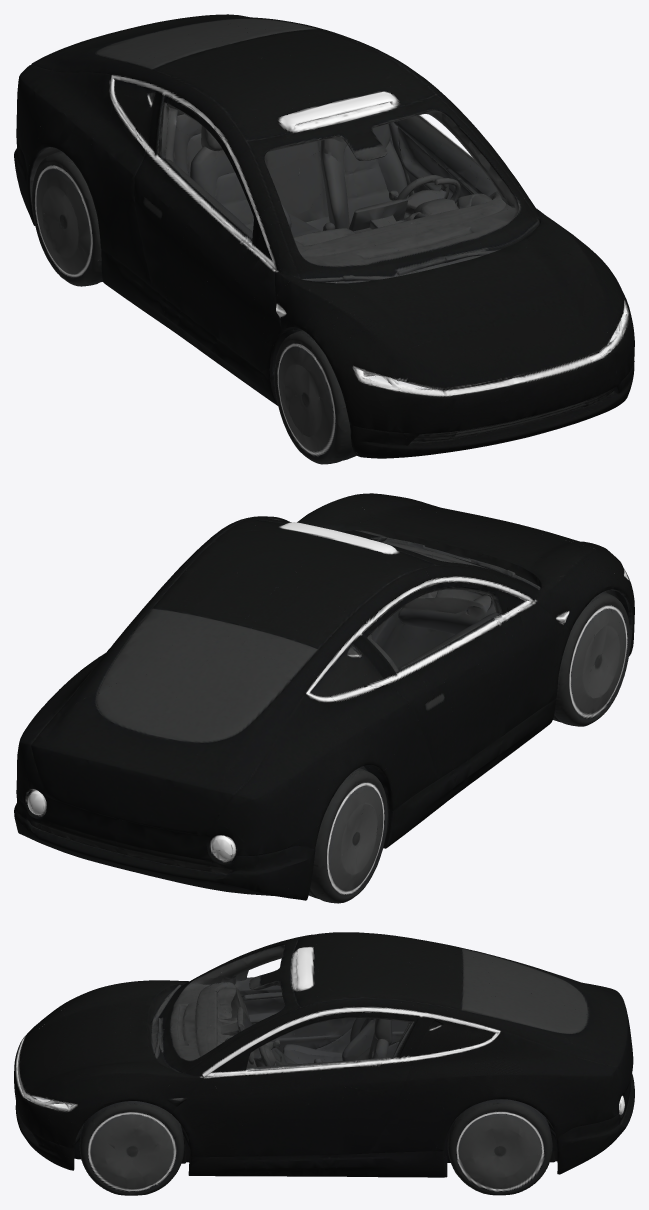
Rendered from cybercab-latest-fidelity.glb.
3 renders of one model, top to bottom at view 1: azimuth 30°, elevation 25°; view 2: azimuth 150°, elevation 25°; view 3: azimuth 270°, elevation 25°, orthographic. The views are drawn at different scales.
Parts seen in each view (by area): view 1: Body, Wheel_RL, Wheel_FL; view 2: Body, Wheel_RL, Wheel_FL; view 3: Body, Wheel_RR, Wheel_FR.
Part boxes in pixels (left/top/right/bottom): Body: left=14, top=14, right=634, bottom=463; Wheel_RL: left=274, top=375, right=406, bottom=464; Wheel_FL: left=26, top=169, right=81, bottom=272; Body: left=14, top=493, right=634, bottom=900; Wheel_RL: left=553, top=650, right=613, bottom=726; Wheel_FL: left=308, top=803, right=378, bottom=903; Body: left=14, top=932, right=634, bottom=1195; Wheel_RR: left=79, top=1113, right=190, bottom=1195; Wheel_FR: left=500, top=1126, right=563, bottom=1194.
Bounding box in the file's own units: 1.88 × 1.43 × 4.45.
Materials: 1 (1 with a texture image).
